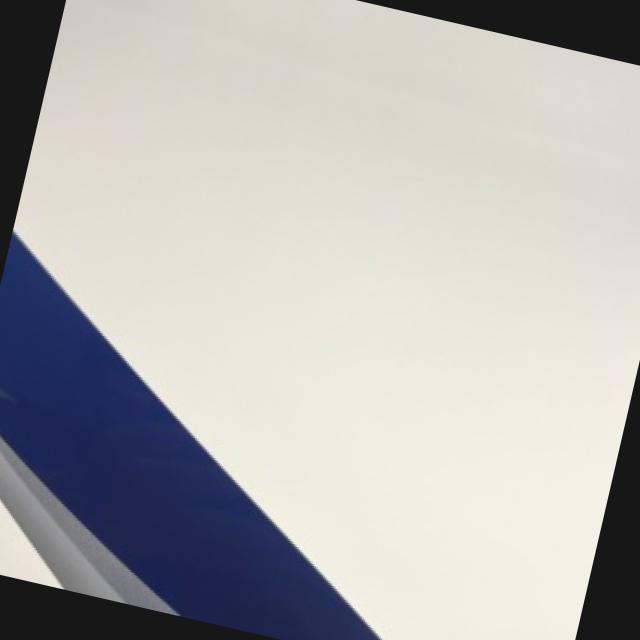healthy: (0, 229, 382, 640)
